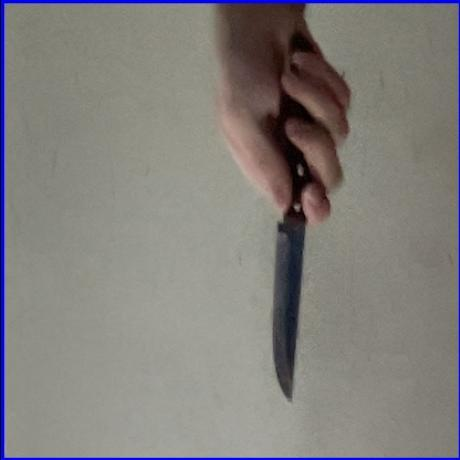1: (206, 0, 352, 228)
weapon: (265, 38, 315, 408)
